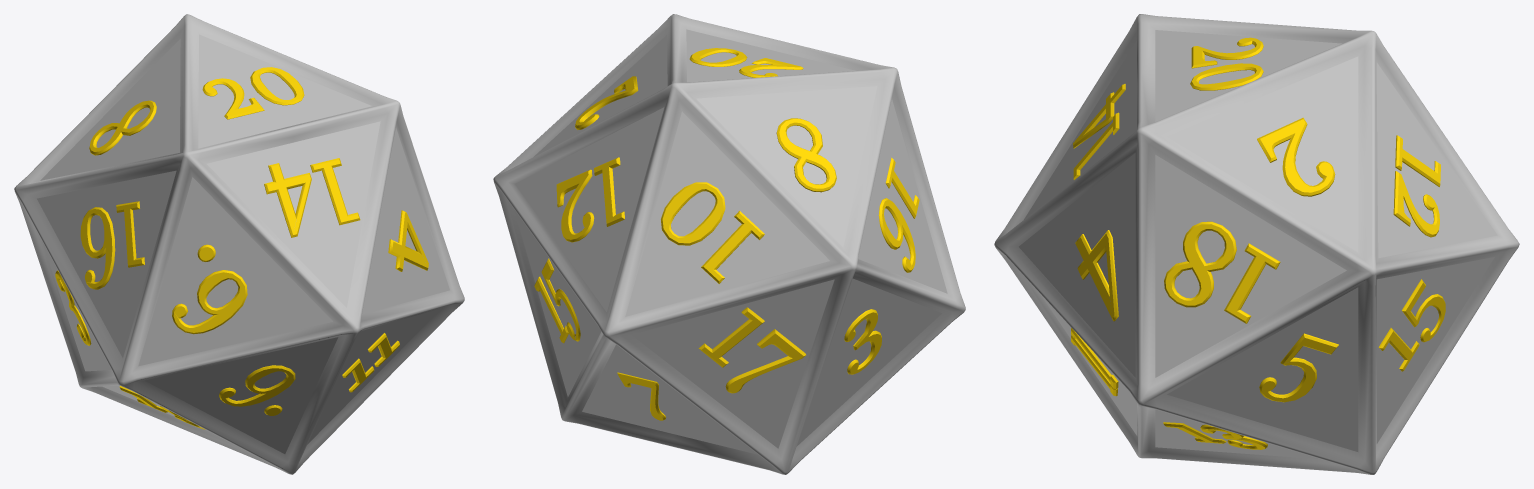
The model's file is dice.glb.
3 renders of one model, left to right at view 1: azimuth 30°, elevation 25°; view 2: azimuth 150°, elevation 25°; view 3: azimuth 270°, elevation 25°, orthographic. The views are drawn at different scales.
Parts seen in each view (by area): view 1: Solid.002; view 2: Solid.002; view 3: Solid.002.
Boxes of the visible parts, x1,y1,x2,y2 form: Solid.002: [14, 14, 464, 474]; Solid.002: [493, 14, 965, 474]; Solid.002: [994, 14, 1519, 474].
Bounding box in the file's own units: 1.17 × 1.24 × 1.38.
